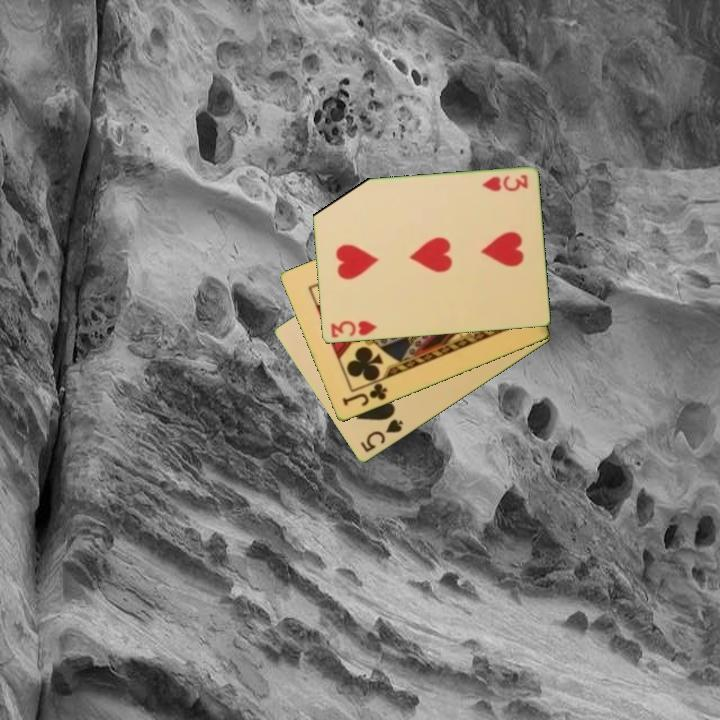3h: (327, 317, 380, 341), (478, 171, 531, 195)
5s: (357, 416, 406, 456)
Jc: (339, 380, 390, 410)
